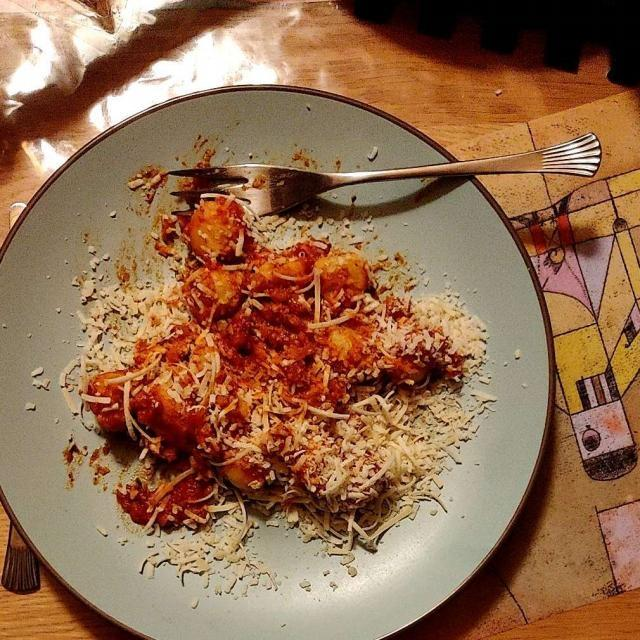cheese: (70, 275, 486, 579)
gnocchi: (80, 190, 484, 555)
tomato-sauce: (115, 253, 475, 528)
